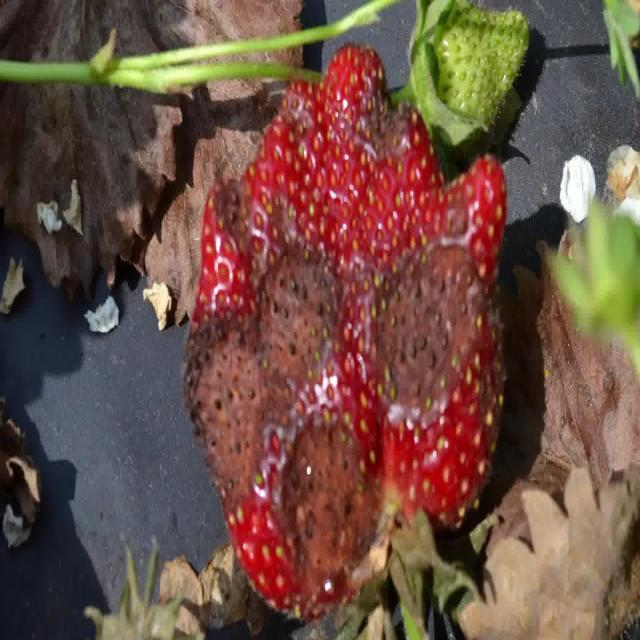Mancha negra Antracnosis: (183, 41, 507, 612)
